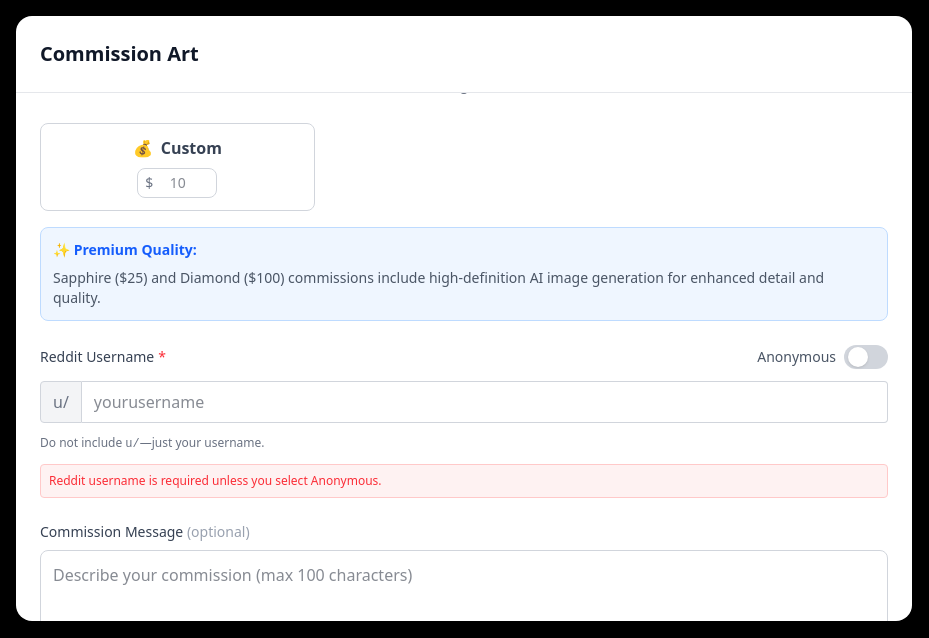
Test: CommissionModal › should handle anonymous toggle
(page scrolled)
Step 1. Click the button named "Toggle anonymous commission" → (866, 356), box [844,344,888,368]
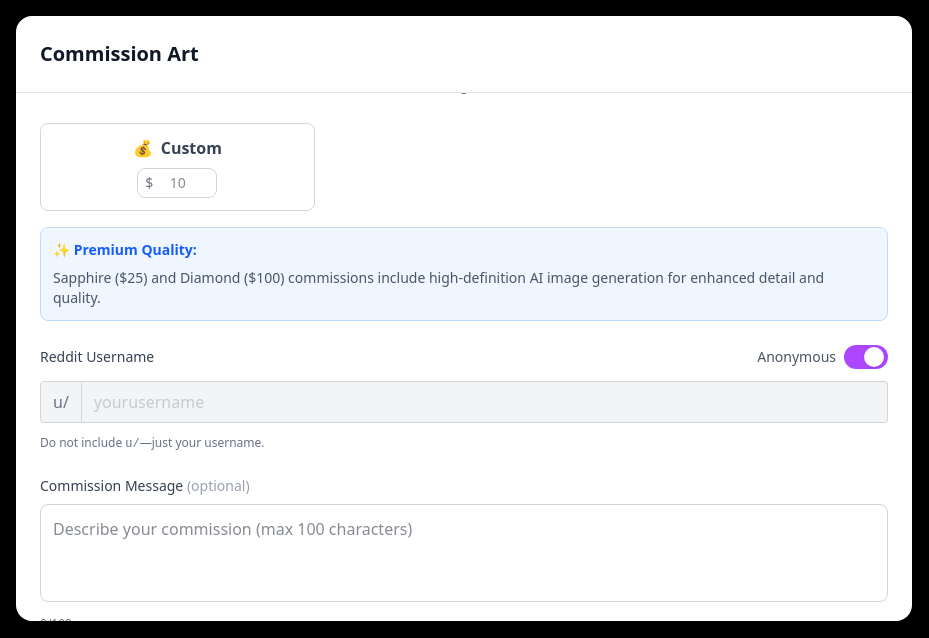
Now the field with placeholder "yourusername" is disabled, box [82,380,888,422]
